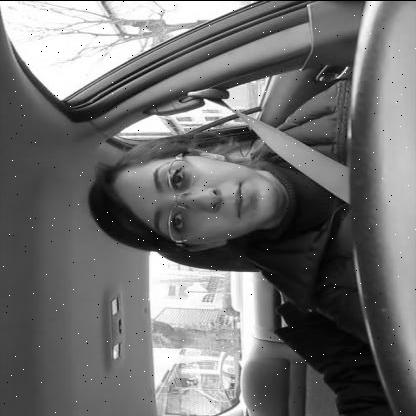seatbelt: (69, 84, 350, 262)
